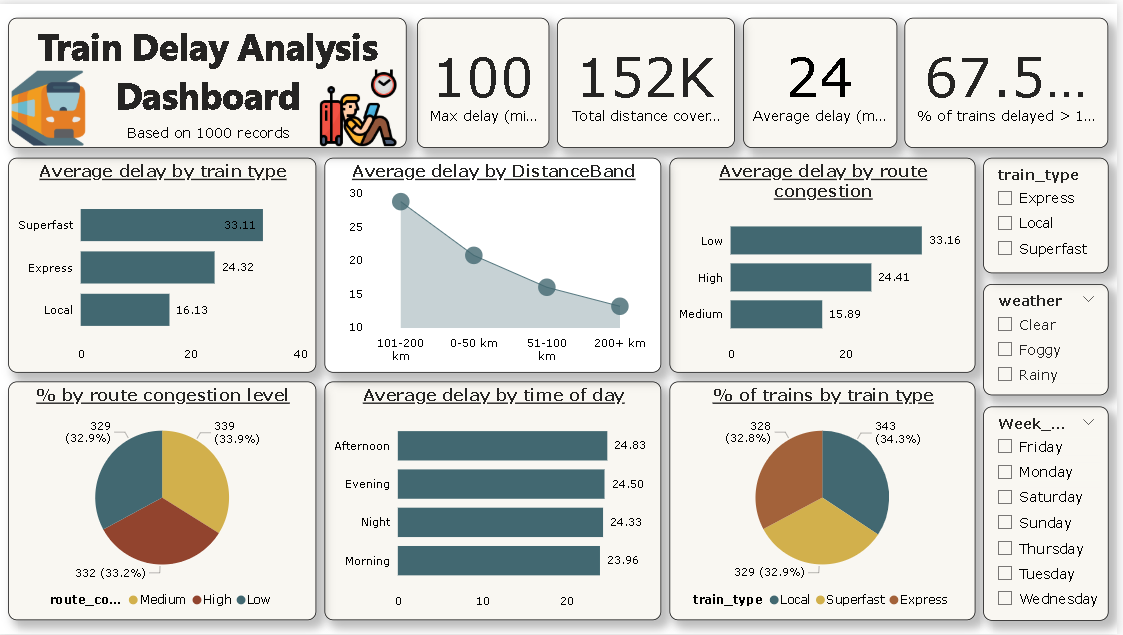

This screenshot's page, from the dashboard's own definition file:
{"tool":"powerbi","page":{"name":"Page 1","canvas":[1280,720],"ordinal":0},"visuals":[{"type":"card","fields":{"Values":["Avg(SQL Train_delay.delay_min)"]},"box":[852.9,15.7,175.7,148.6],"z":0},{"type":"clusteredBarChart","title":"Average delay by train type","fields":{"Category":["SQL Train_delay.train_type"],"Y":["Avg(SQL Train_delay.delay_min)"]},"box":[13.5,176.1,352.2,245.8],"z":1000},{"type":"clusteredBarChart","title":"Average delay by route congestion","fields":{"Category":["SQL Train_delay.route_congestion"],"Y":["Avg(SQL Train_delay.delay_min)"]},"box":[767.9,176.1,349.7,245.8],"z":2000},{"type":"card","fields":{"Values":["Max(SQL Train_delay.delay_min)"]},"box":[480,15.7,151.4,148.6],"z":3000},{"type":"card","fields":{"Values":["Sum(SQL Train_delay.distance_km)"]},"box":[638.6,15.7,207.1,148.6],"z":4000},{"type":"clusteredBarChart","title":"Average delay by time of day","fields":{"Y":["Avg(SQL Train_delay.delay_min)"],"Category":["SQL Train_delay.time_of_day"]},"box":[374.2,431.7,385.2,272.7],"z":5000},{"type":"lineChart","title":"Average delay by DistanceBand","fields":{"Y":["Avg(SQL Train_delay.delay_min)"],"Category":["SQL Train_delay.DistanceBand"]},"box":[374.2,176.1,385.2,245.8],"z":6000},{"type":"pieChart","title":"% of trains by train type","fields":{"Category":["SQL Train_delay.train_type"],"Y":["CountNonNull(SQL Train_delay.train_type)"]},"box":[767.9,431.7,349.7,272.7],"z":7000},{"type":"pieChart","title":"% by route congestion level","fields":{"Category":["SQL Train_delay.route_congestion"],"Y":["CountNonNull(SQL Train_delay.route_congestion)"]},"box":[13.5,431.7,352.2,272.7],"z":8000},{"type":"slicer","fields":{"Values":["SQL Train_delay.day_of_week"]},"box":[1127.5,459.8,143.1,244.6],"z":9000},{"type":"slicer","fields":{"Values":["SQL Train_delay.weather"]},"box":[1127.5,320.4,143.1,127.2],"z":10000},{"type":"slicer","fields":{"Values":["SQL Train_delay.train_type"]},"box":[1127.5,176.1,143.1,132.1],"z":11000},{"type":"card","fields":{"Values":["SQL Train_delay.PercentDelayedOver10"]},"box":[1037.1,15.7,234.3,148.6],"z":12000},{"type":"textbox","title":"Train Delay Analysis Dashboard","box":[13.5,15.9,454.9,149.2],"z":13000},{"type":"image","box":[12.9,68.6,101.4,95.7],"z":14000},{"type":"image","box":[365.7,57.1,101.4,107.1],"z":15000}]}

Visuals, with their boxes in screenshot pixels (x1, y1, x2, y2), scaled from the page's 1280x720 canvas onto the 1123x635 screenshot:
card - Avg(SQL Train_delay.delay_min): 748, 14, 902, 145
"Average delay by train type" clusteredBarChart: 12, 155, 321, 372
"Average delay by route congestion" clusteredBarChart: 674, 155, 981, 372
card - Max(SQL Train_delay.delay_min): 421, 14, 554, 145
card - Sum(SQL Train_delay.distance_km): 560, 14, 742, 145
"Average delay by time of day" clusteredBarChart: 328, 381, 666, 621
"Average delay by DistanceBand" lineChart: 328, 155, 666, 372
"% of trains by train type" pieChart: 674, 381, 981, 621
"% by route congestion level" pieChart: 12, 381, 321, 621
slicer - SQL Train_delay.day_of_week: 989, 406, 1115, 621
slicer - SQL Train_delay.weather: 989, 283, 1115, 395
slicer - SQL Train_delay.train_type: 989, 155, 1115, 272
card - SQL Train_delay.PercentDelayedOver10: 910, 14, 1115, 145
"Train Delay Analysis Dashboard" textbox: 12, 14, 411, 146
image: 11, 61, 100, 145
image: 321, 50, 410, 145
